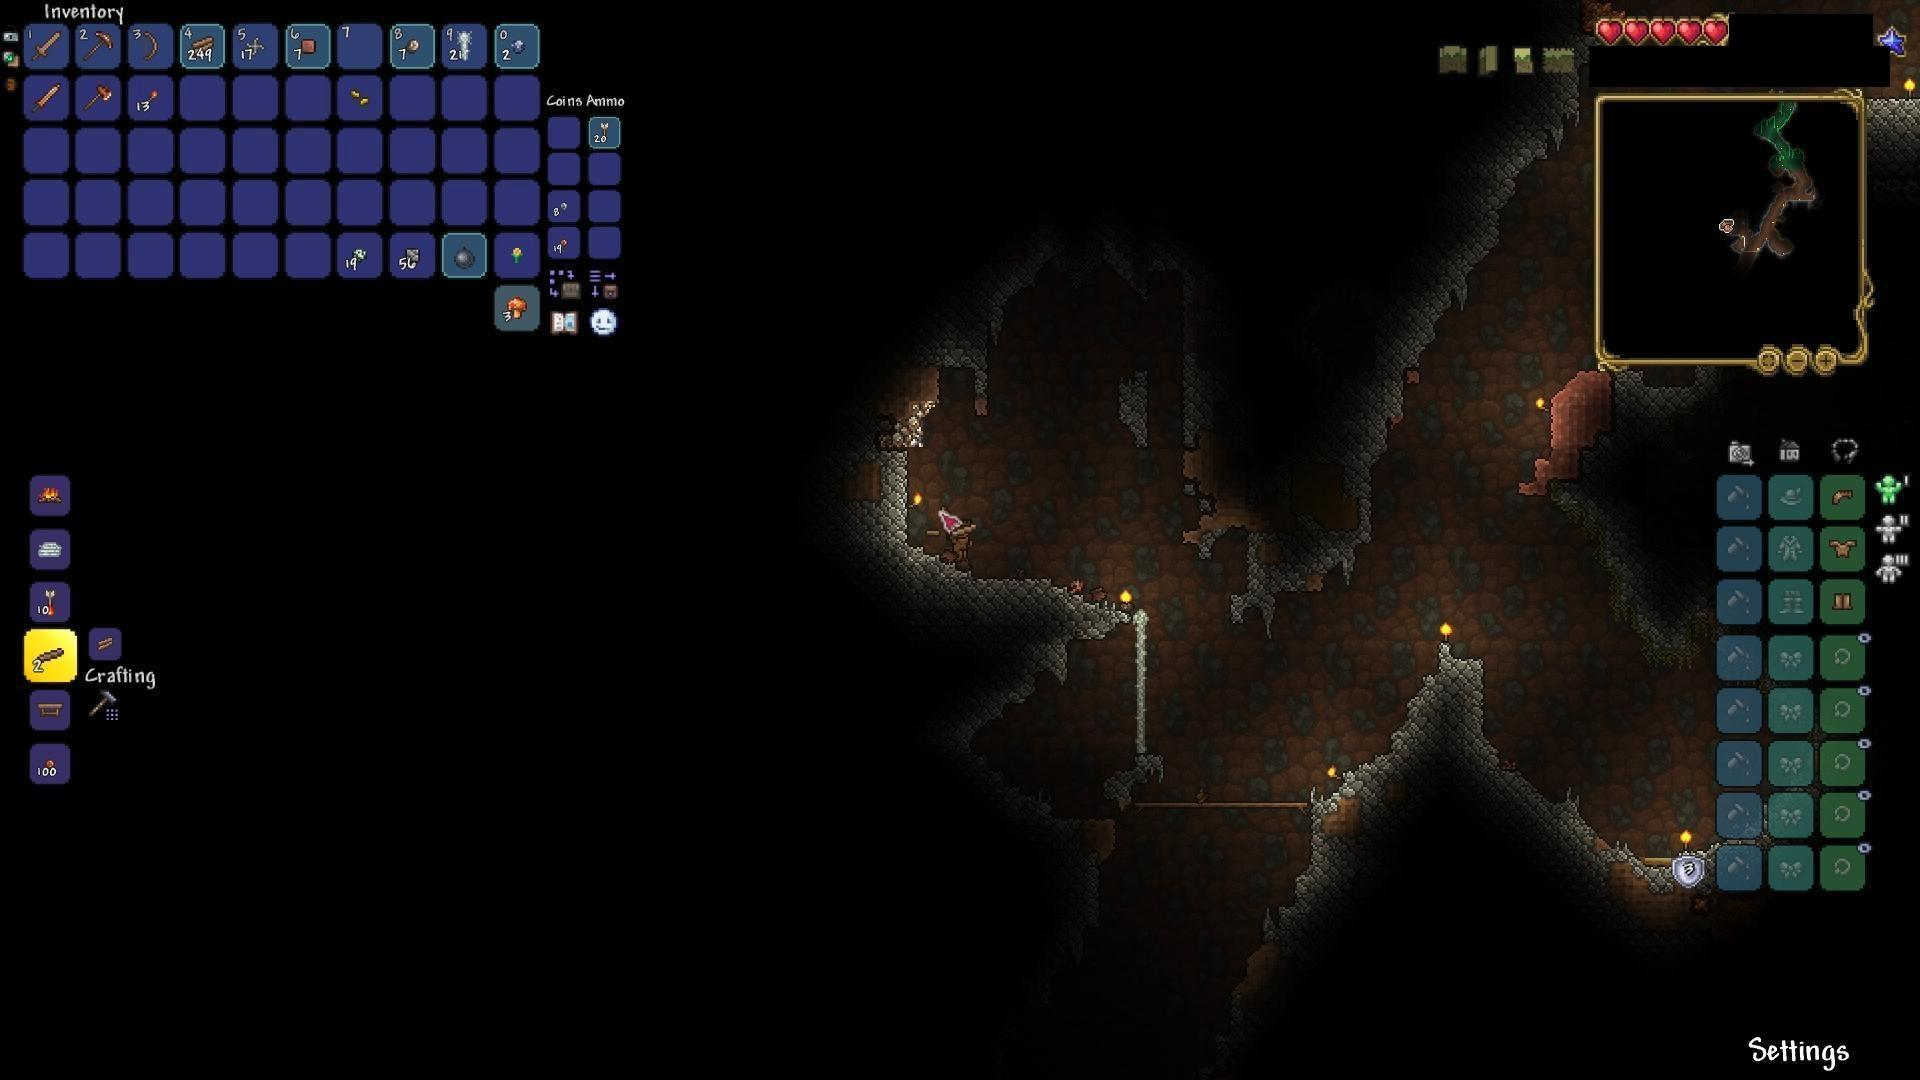heart: (1702, 17, 1733, 51), (1593, 16, 1626, 46), (1676, 15, 1704, 50), (1650, 16, 1676, 49), (1625, 15, 1651, 44)
stone: (961, 550, 1131, 694), (1555, 512, 1662, 636), (1226, 535, 1361, 625), (1394, 651, 1502, 761), (1493, 767, 1590, 885), (886, 444, 953, 597), (1494, 75, 1592, 175), (1262, 818, 1331, 930), (909, 285, 993, 375), (1428, 214, 1510, 305), (1303, 756, 1407, 827), (1328, 400, 1390, 492), (1104, 750, 1171, 818), (1598, 835, 1665, 891), (1618, 368, 1724, 404), (1113, 357, 1151, 435), (1867, 90, 1920, 145), (1389, 306, 1425, 384), (1185, 352, 1207, 455)
